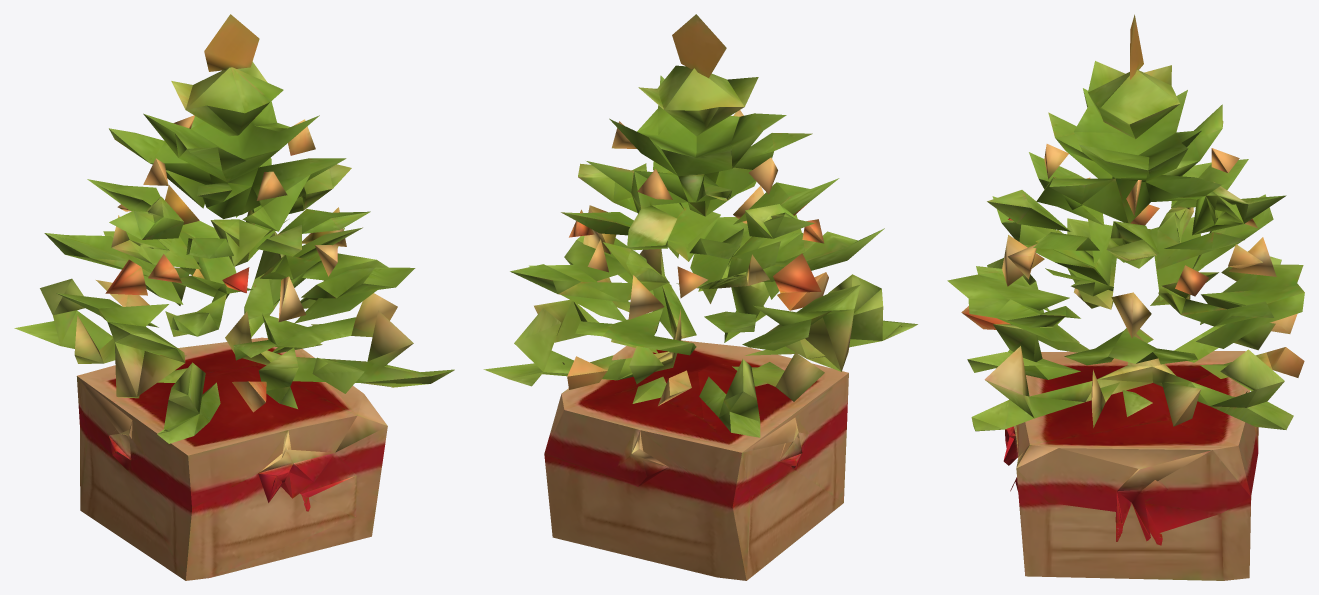
The model's file is holidayTree.glb.
The picture shows the model from 3 angles, left to right: view 1: azimuth 30°, elevation 25°; view 2: azimuth 150°, elevation 25°; view 3: azimuth 270°, elevation 25°; orthographic projection. The views are drawn at different scales.
Visible parts, largest first — view 1: model; view 2: model; view 3: model.
Boxes of the visible parts, box(x1,y1,x2,y2) form: model: box(14, 14, 454, 580); model: box(483, 14, 917, 580); model: box(947, 14, 1304, 580).
Bounding box in the file's own units: 1.12 × 1.86 × 1.15.
Materials: 1 (1 with a texture image).
